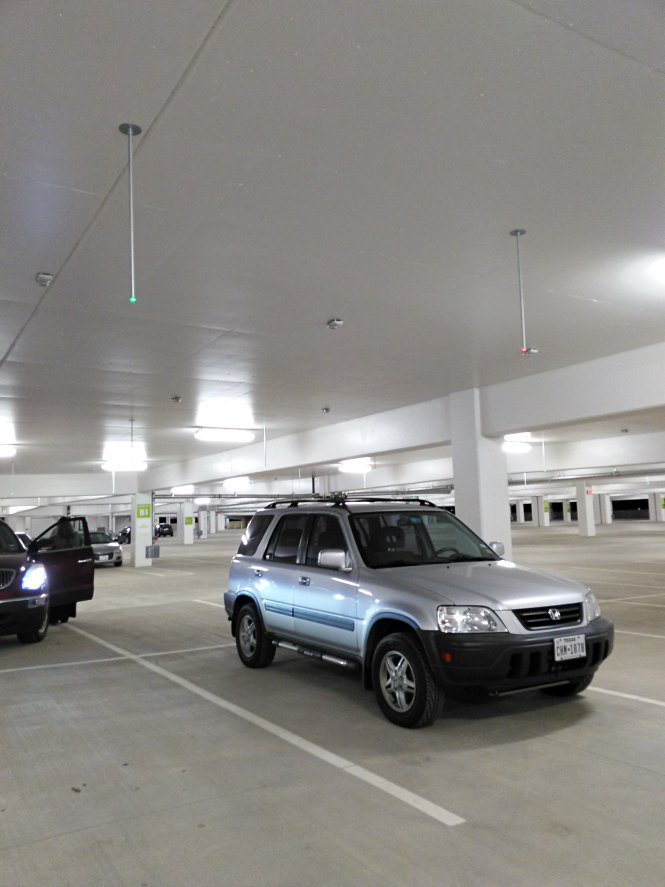empyt_space: (1, 648, 481, 866), (64, 583, 243, 668), (618, 626, 665, 731)
